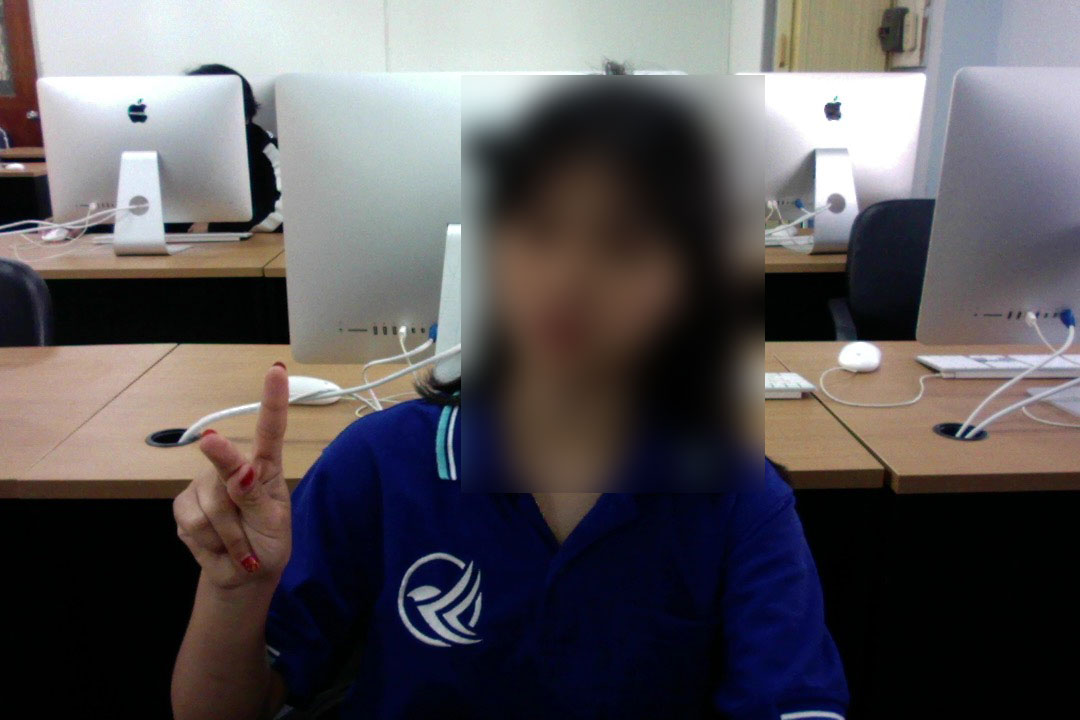ko: (165, 350, 306, 586)
